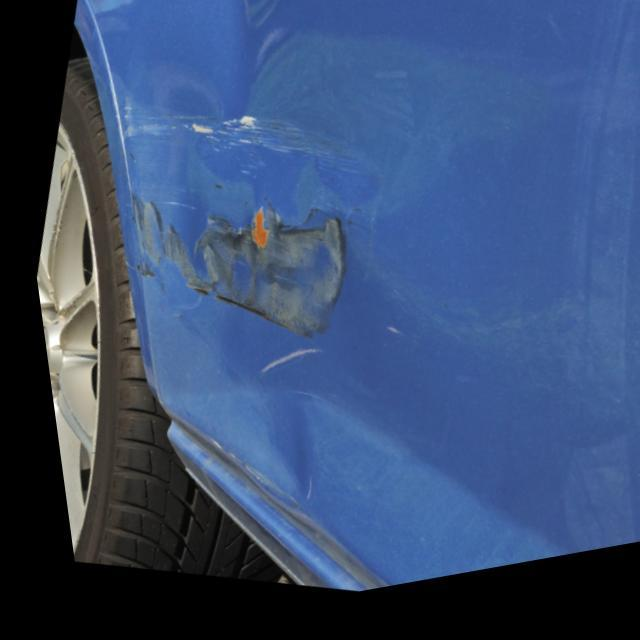dent: (136, 91, 376, 501)
